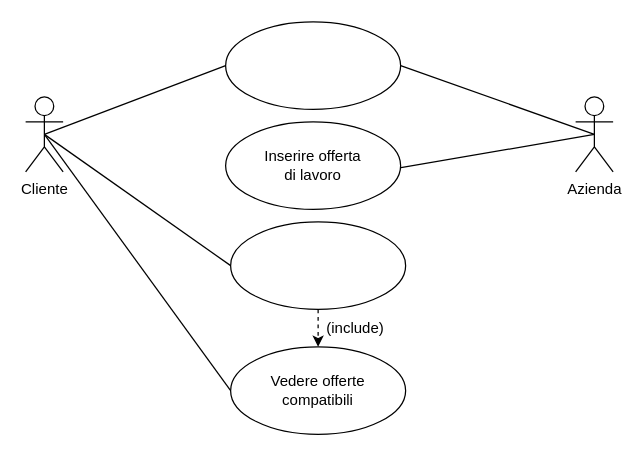
The diagram is 643 pixels wide and 456 high, and some of its shapes have lost their labels. Here are the shapes that lost their labels. From the top down, the centre of each, then its label:
At (x=312, y=65): "Registrarsi".
At (x=317, y=265): "Elaborare richiesta".
